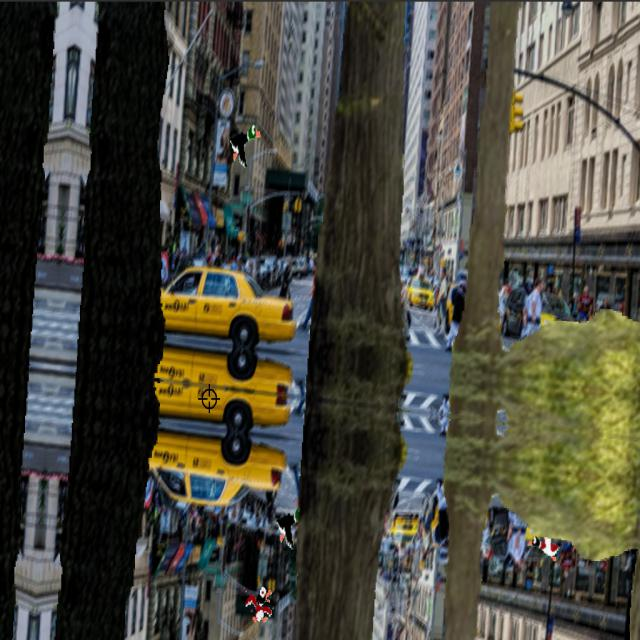duck: (227, 112, 264, 172), (525, 527, 571, 568), (269, 501, 305, 546)
falling_duck: (240, 576, 278, 627)
